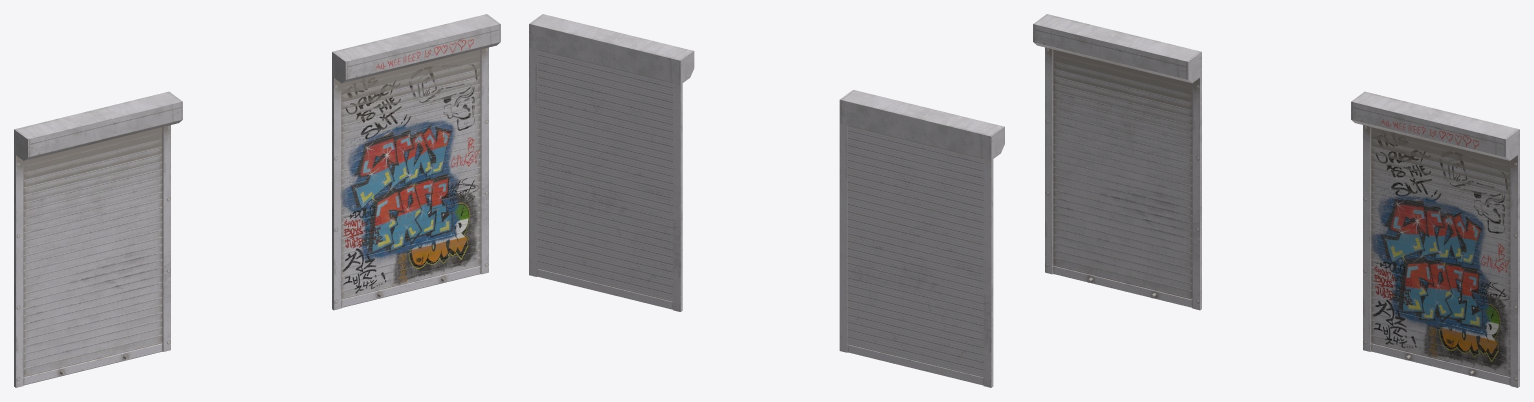
The model's file is rollershutter_window_03.glb.
The picture shows the model from 3 angles, left to right: view 1: azimuth 30°, elevation 25°; view 2: azimuth 150°, elevation 25°; view 3: azimuth 330°, elevation 25°; orthographic projection. The views are drawn at different scales.
Parts seen in each view (by area): view 1: rollershutter_window_03_graffiti, rollershutter_window_03; view 2: rollershutter_window_03, rollershutter_window_03_graffiti; view 3: rollershutter_window_03, rollershutter_window_03_graffiti.
Part boxes in pixels (bbox=[...]): rollershutter_window_03_graffiti: bbox=[332, 14, 500, 310]; rollershutter_window_03: bbox=[14, 91, 182, 387]; rollershutter_window_03: bbox=[839, 90, 1004, 387]; rollershutter_window_03_graffiti: bbox=[529, 14, 694, 311]; rollershutter_window_03: bbox=[1033, 14, 1201, 310]; rollershutter_window_03_graffiti: bbox=[1351, 91, 1519, 387].
Size of the model in its own units: 2.98 by 1.55 by 0.1531.
2 materials, 2 textured.
